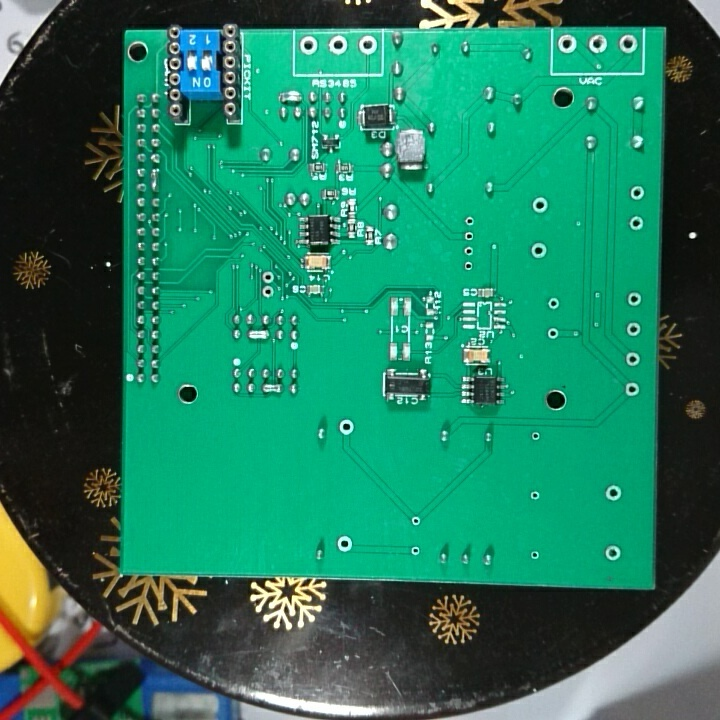F: (585, 32, 610, 58), (618, 32, 640, 59), (297, 35, 320, 58), (357, 33, 377, 59), (557, 32, 578, 56), (604, 482, 625, 506), (528, 239, 549, 263), (334, 532, 354, 557), (530, 195, 551, 218), (602, 542, 622, 566), (337, 416, 357, 440), (327, 35, 348, 57), (628, 212, 646, 235), (625, 289, 645, 309), (623, 380, 642, 400), (624, 348, 642, 369), (629, 183, 646, 205), (624, 318, 642, 338), (258, 269, 279, 284), (545, 325, 562, 342), (545, 295, 562, 312), (407, 543, 424, 559), (462, 213, 479, 229), (259, 283, 277, 298), (462, 258, 477, 274), (462, 243, 477, 258), (528, 489, 542, 505), (528, 429, 542, 445), (408, 514, 423, 528), (461, 229, 476, 243), (528, 549, 542, 563)
P: (147, 166, 163, 195), (277, 89, 304, 104), (246, 328, 271, 343), (259, 382, 285, 396)
